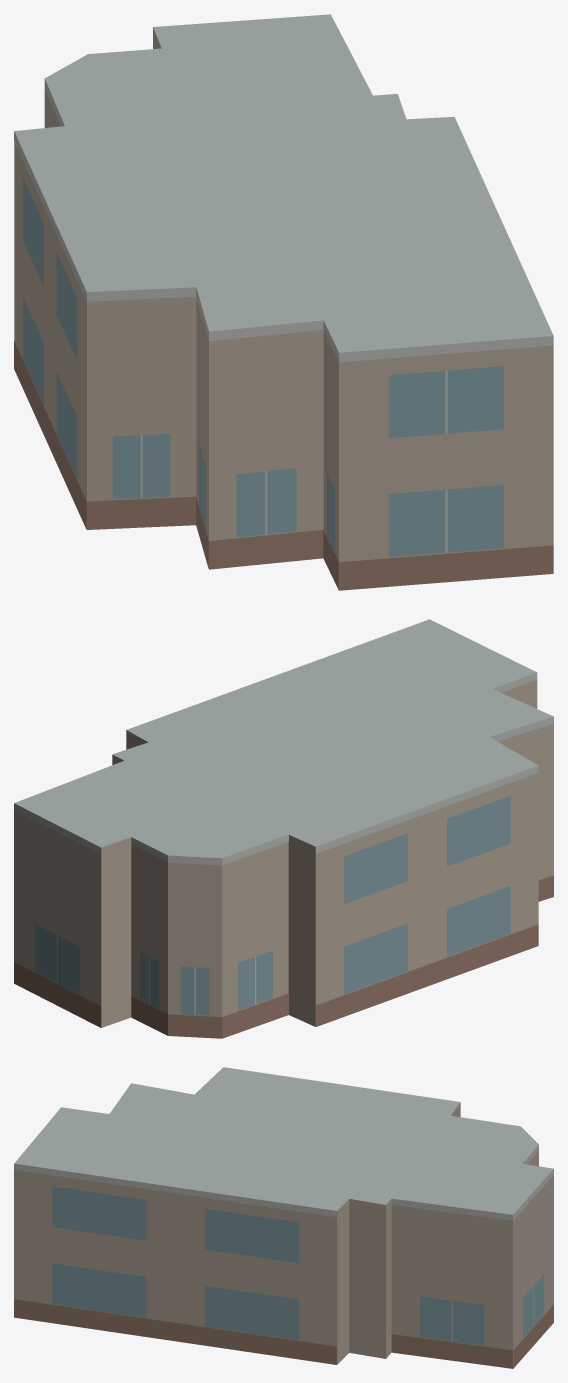
File: survey-upis-32661806.glb
3 views of the same model, one above another, from view 1: azimuth 30°, elevation 25°; view 2: azimuth 150°, elevation 25°; view 3: azimuth 270°, elevation 25° (orthographic). The views are drawn at different scales.
Visible parts, largest first — view 1: survey-upis-32661806.tmp; view 2: survey-upis-32661806.tmp; view 3: survey-upis-32661806.tmp.
Boxes of the visible parts, x1,y1,x2,y2 form: survey-upis-32661806.tmp: (14, 14, 553, 590); survey-upis-32661806.tmp: (14, 619, 553, 1038); survey-upis-32661806.tmp: (14, 1067, 553, 1368).
Size of the model in its own units: 12.57 by 6.1 by 19.39.
